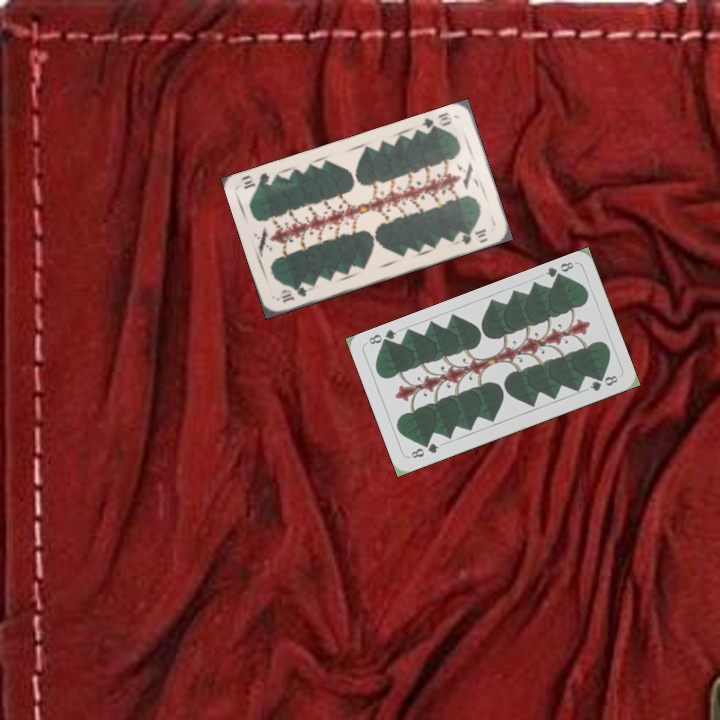G10: (418, 108, 455, 136), (277, 282, 309, 305)
G8: (542, 257, 576, 284), (407, 439, 442, 461)
